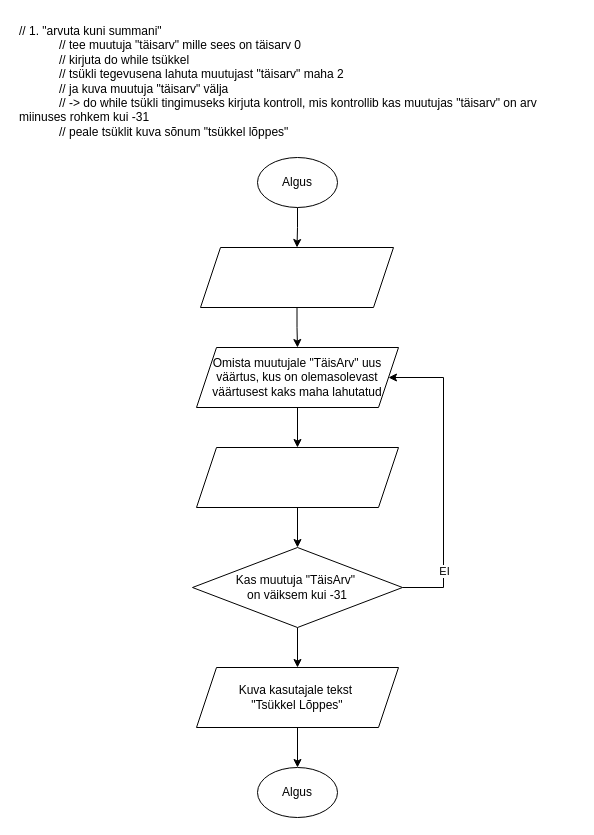
The diagram is 594 pixels wide and 835 high, and some of its shapes have lost their labels. The shapes that lost their labels are listed below. From the top down, each one's box as (x1, y1, x2, y2) in pixels, then its label:
(200, 246, 394, 308): Tekitame muutuja "TäisArv" millele omistame algväärtuse 0
(196, 446, 398, 508): Kuva kasutajale muutuja "TäisArv" välja
